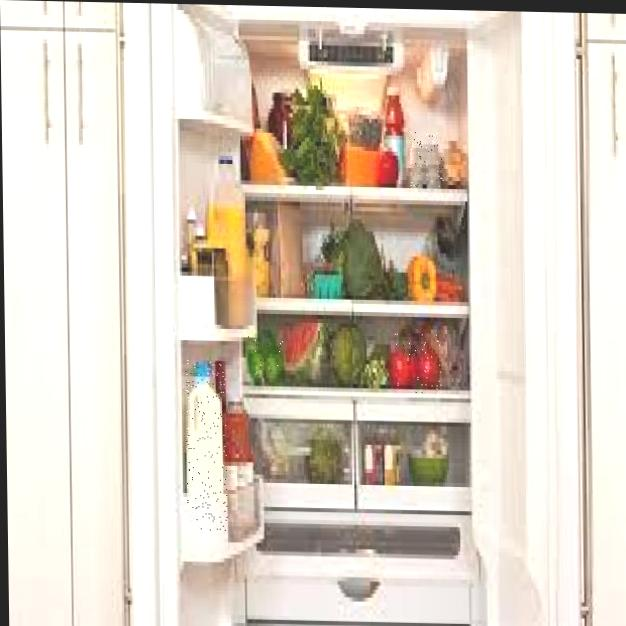eggs: (410, 132, 445, 193)
lime: (245, 333, 284, 378)
milk: (185, 360, 228, 531)
tomatoes: (395, 329, 442, 398)
